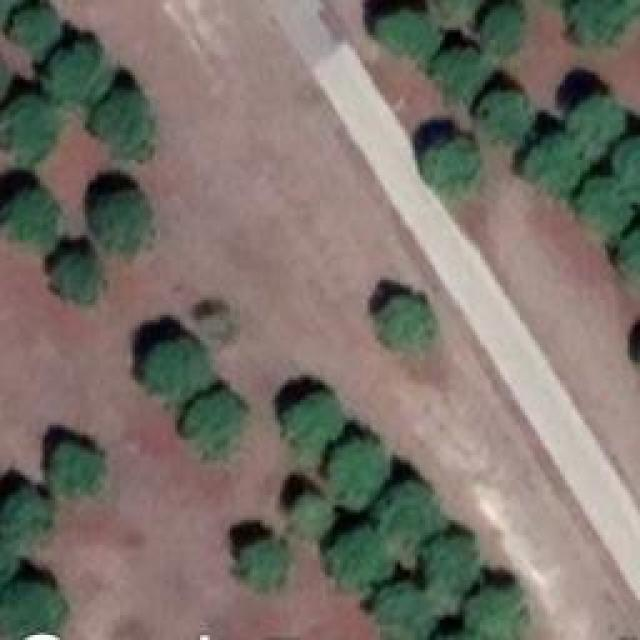Tree: (378, 482, 451, 550), (328, 437, 391, 515), (180, 390, 248, 458), (143, 340, 216, 403), (0, 98, 60, 173), (320, 533, 395, 593), (93, 193, 158, 258), (93, 88, 153, 158), (523, 138, 588, 201), (280, 388, 343, 453), (418, 538, 483, 601), (423, 135, 483, 195), (0, 578, 65, 633), (2, 185, 60, 245), (377, 8, 445, 58), (45, 45, 103, 103), (368, 592, 438, 640), (380, 295, 440, 350), (48, 442, 103, 500), (570, 100, 630, 153), (468, 590, 531, 640), (0, 490, 48, 550), (478, 90, 531, 143), (435, 47, 483, 105), (50, 253, 105, 303), (240, 540, 290, 595), (577, 185, 625, 240), (10, 8, 60, 58), (480, 8, 525, 61), (575, 0, 623, 48), (288, 498, 333, 541), (615, 140, 640, 208), (615, 228, 640, 288)
